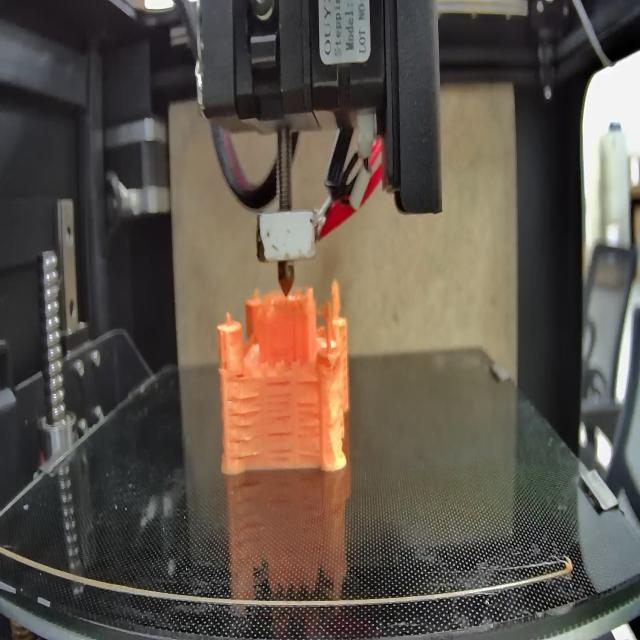cracks: (230, 394, 262, 461), (262, 379, 294, 438), (298, 398, 322, 458), (269, 445, 292, 462), (296, 374, 320, 388), (234, 372, 249, 382)
